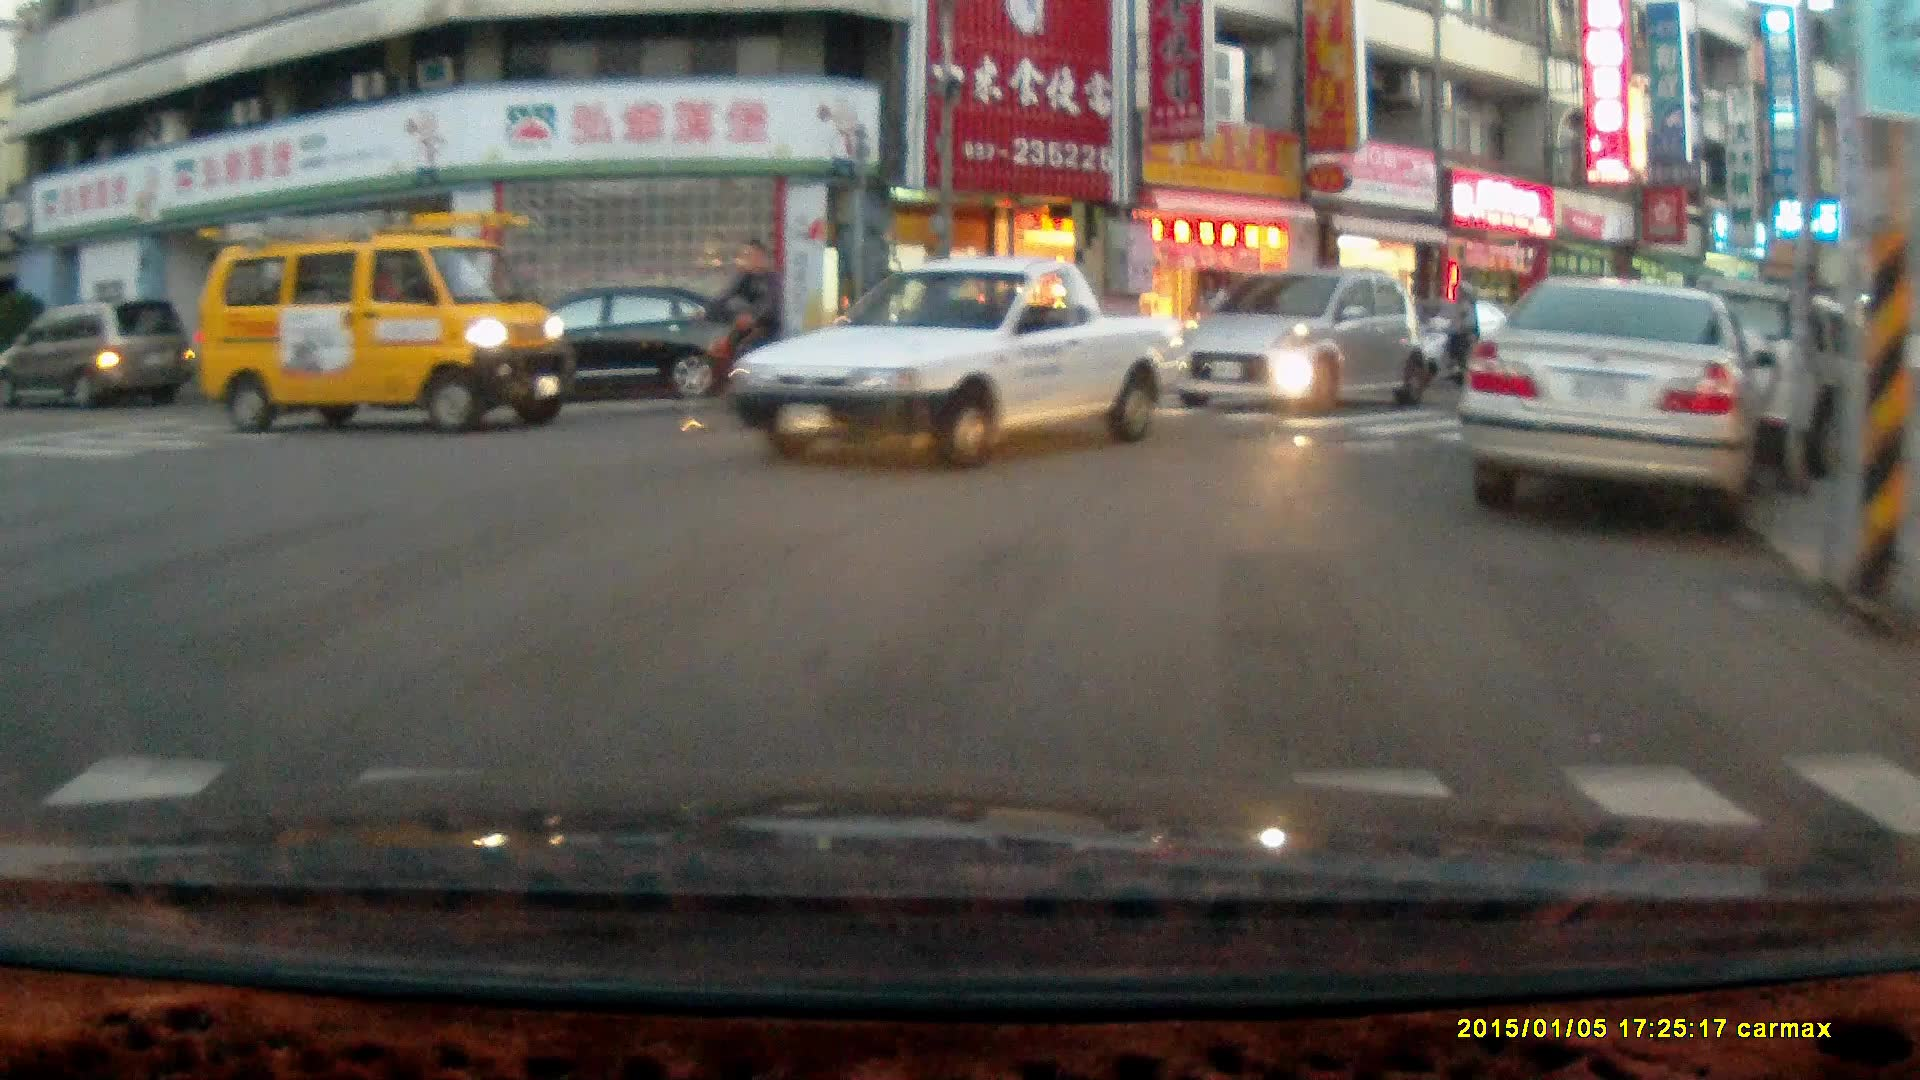pedestrian: (1192, 266, 1231, 363)
rider: (673, 234, 812, 428), (1409, 276, 1480, 391)
vehicle: (729, 259, 1189, 478), (1463, 278, 1783, 542), (192, 215, 570, 435), (1626, 292, 1902, 488), (1171, 272, 1433, 422), (472, 285, 771, 412), (1, 296, 209, 416)
